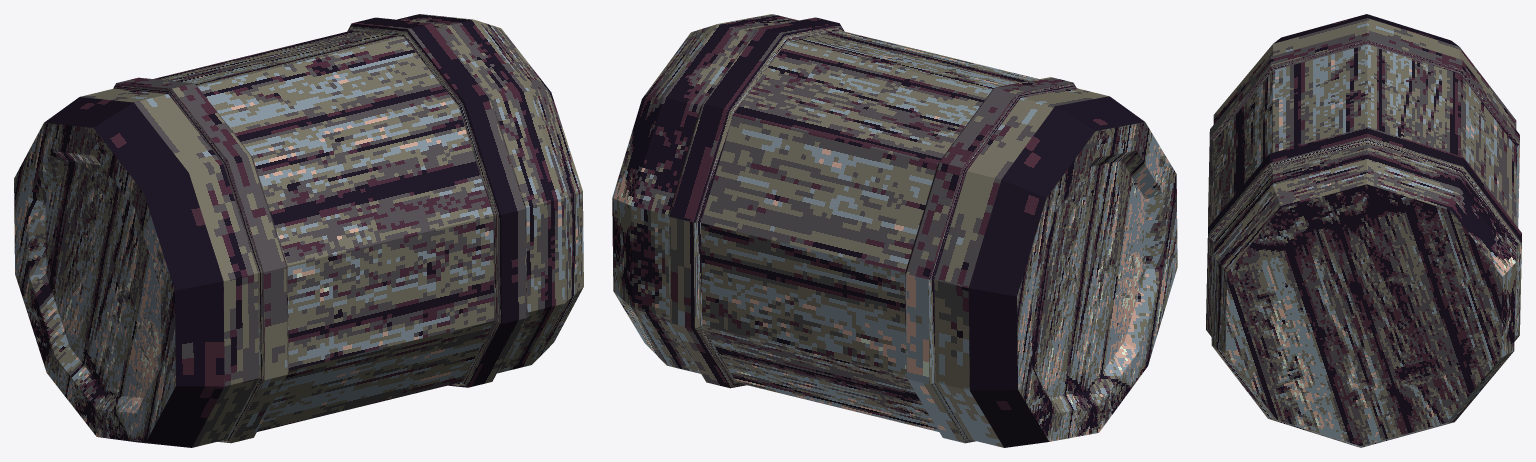
File: barrel.gltf
3 views of the same model, side by side, from view 1: azimuth 30°, elevation 25°; view 2: azimuth 150°, elevation 25°; view 3: azimuth 270°, elevation 25° (orthographic). The views are drawn at different scales.
Visible parts, largest first — view 1: barrel; view 2: barrel; view 3: barrel.
Boxes of the visible parts, x1,y1,x2,y2 form: barrel: [14, 14, 583, 447]; barrel: [612, 14, 1177, 447]; barrel: [1206, 14, 1521, 447].
Size of the model in its own units: 0.6977 by 0.5717 by 0.5473.
1 material, 1 textured.
